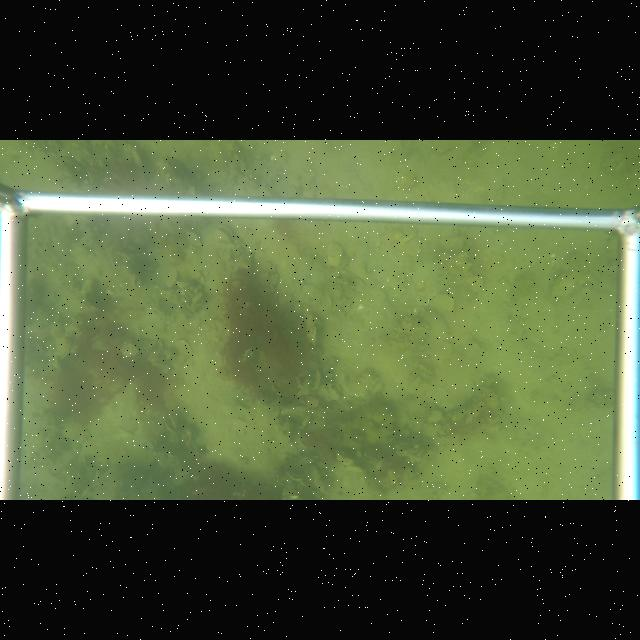Oyster-Closed: (306, 314, 319, 349), (164, 268, 180, 290)
Oyster-Open: (214, 224, 234, 242), (86, 167, 96, 182)
